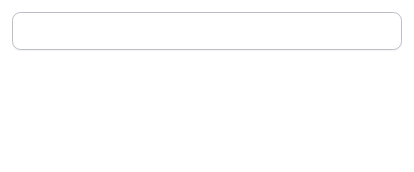
Test: NumericInput under register() › leaves « 40 » for « 040 », in the box and in the form
Type "040" into the field named "amount".
click(207, 31); type("040")  # box [12,12,402,50]
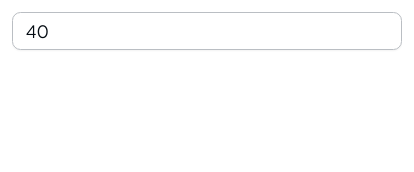
Check: the field named "amount" holds "40", box [12,12,402,50]
